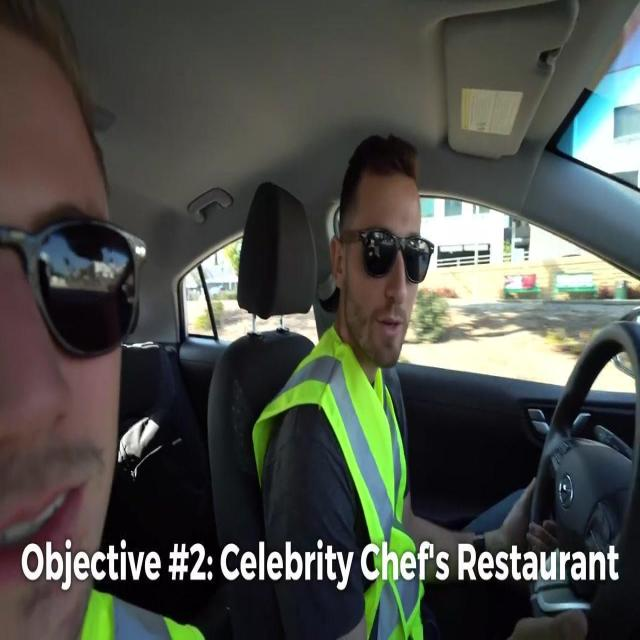Vest: (251, 328, 425, 639), (75, 586, 207, 639)
